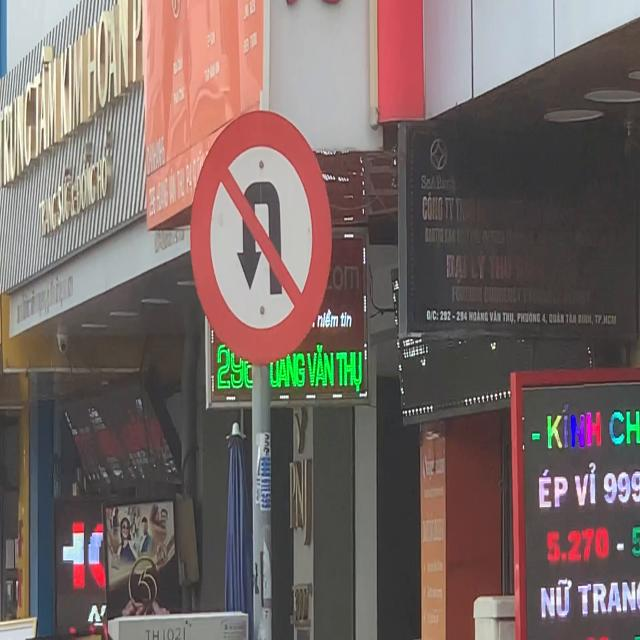Cam quay dau xe: (190, 110, 330, 366)
